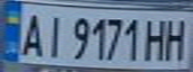1: (121, 15, 145, 61), (87, 15, 109, 61)
7: (103, 15, 124, 61)
9: (66, 12, 90, 60)
A: (15, 8, 48, 59)
H: (160, 15, 193, 61), (142, 16, 172, 62)
I: (39, 10, 69, 60)
